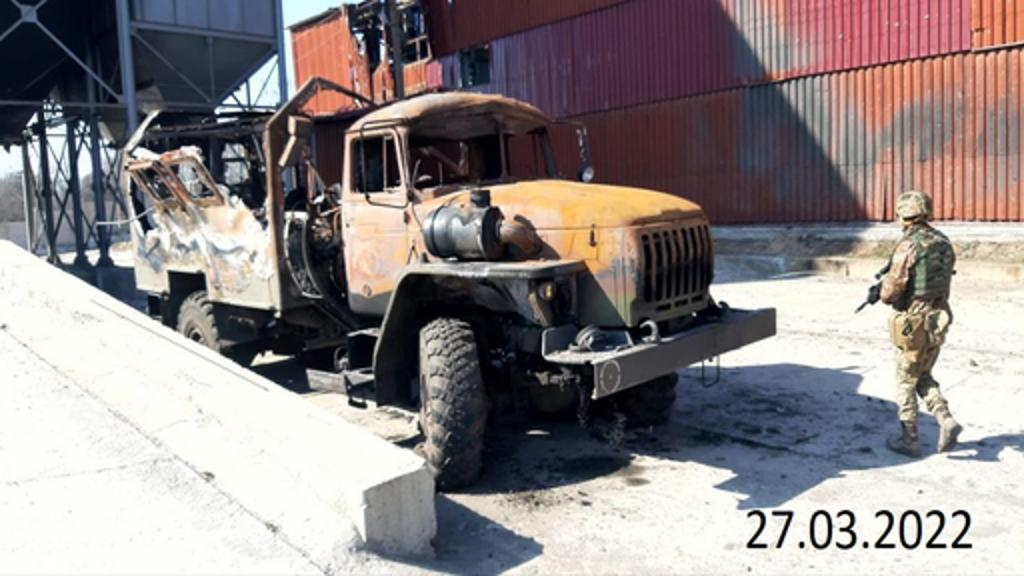TRUCK: (108, 76, 784, 490)
